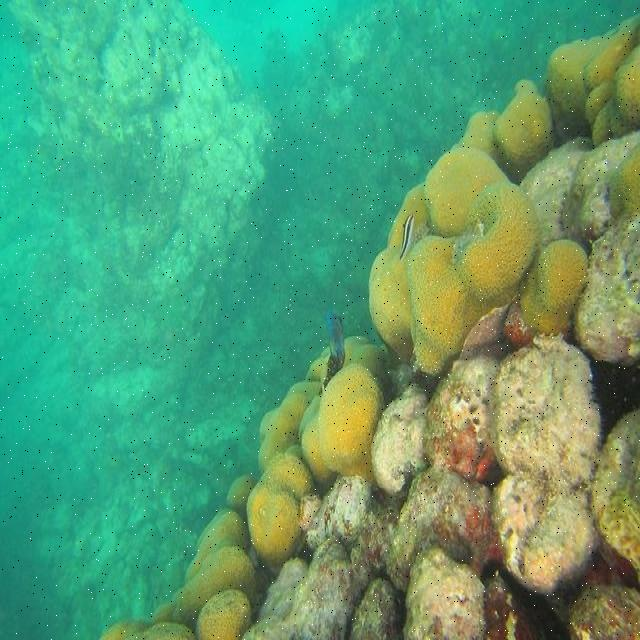fish: (315, 315, 347, 394), (398, 212, 415, 260)
reefs: (98, 12, 639, 639)
